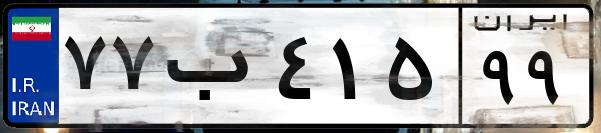1: (330, 28, 385, 110)
4: (270, 28, 330, 110)
5: (385, 28, 445, 110)
7: (57, 26, 110, 100), (110, 28, 158, 98)
9: (475, 38, 525, 113), (525, 38, 570, 115)
ب: (158, 20, 270, 120)
